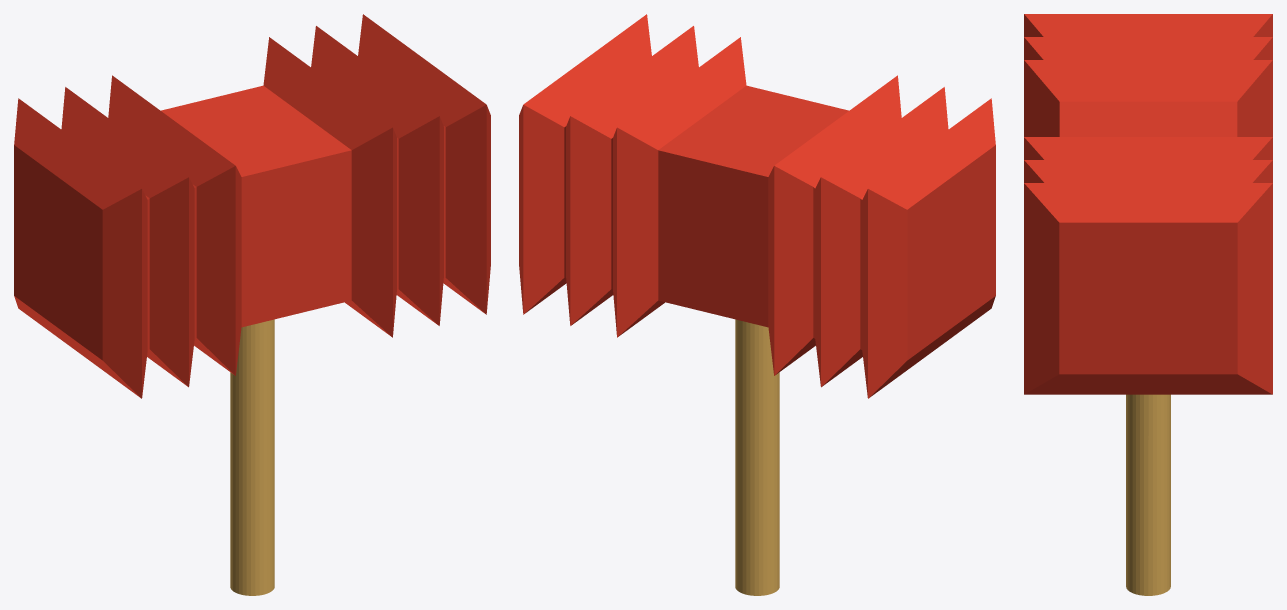
Rendered from hammer.fbx.
The picture shows the model from 3 angles, left to right: view 1: azimuth 30°, elevation 25°; view 2: azimuth 150°, elevation 25°; view 3: azimuth 270°, elevation 25°; orthographic projection.
Parts seen in each view (by area): view 1: Cube, Cylinder; view 2: Cube, Cylinder; view 3: Cube, Cylinder.
Part boxes in pixels (x1,y1,x2,y2): Cube: [14, 14, 490, 398]; Cylinder: [230, 319, 274, 595]; Cube: [519, 14, 995, 398]; Cylinder: [735, 319, 779, 595]; Cube: [1024, 14, 1272, 394]; Cylinder: [1126, 394, 1170, 595].
Bounding box in the file's own units: 325 × 388 × 179.
